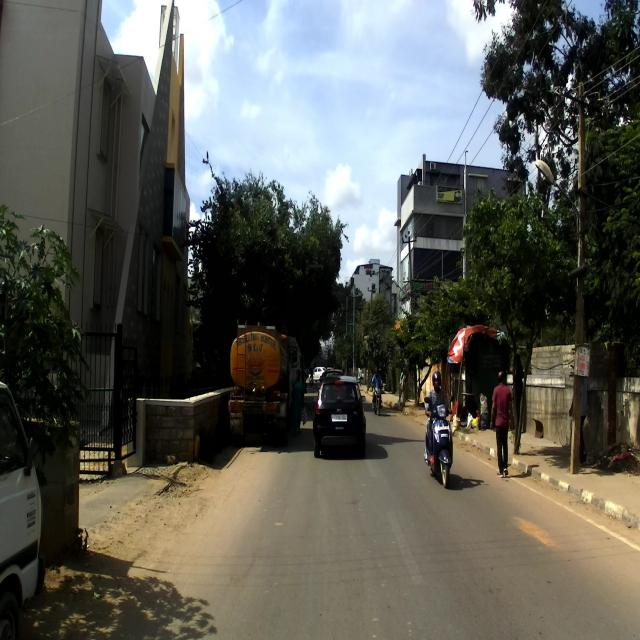Car_Ford: (311, 366, 367, 464)
scooter: (422, 396, 457, 486)
truck: (228, 308, 300, 453)
